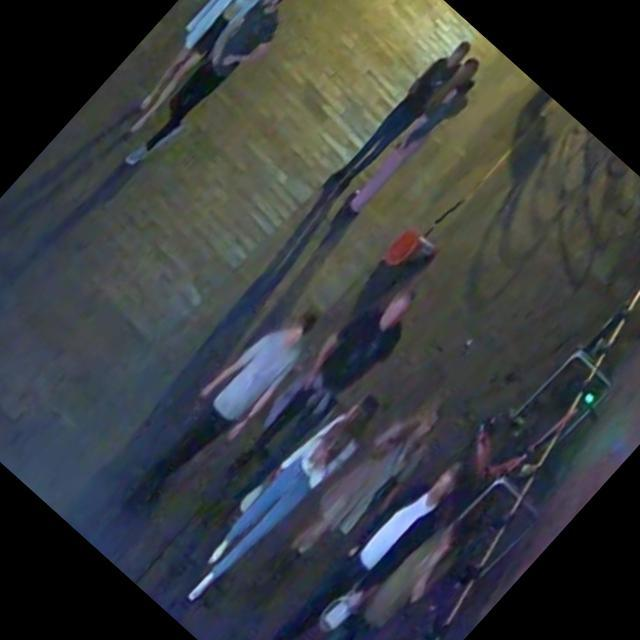person: (158, 367, 404, 630), (228, 383, 465, 636), (209, 256, 444, 507), (109, 277, 344, 528), (232, 435, 488, 640), (92, 0, 316, 197), (323, 40, 508, 239), (301, 15, 484, 212), (263, 492, 489, 640), (91, 0, 301, 150)
